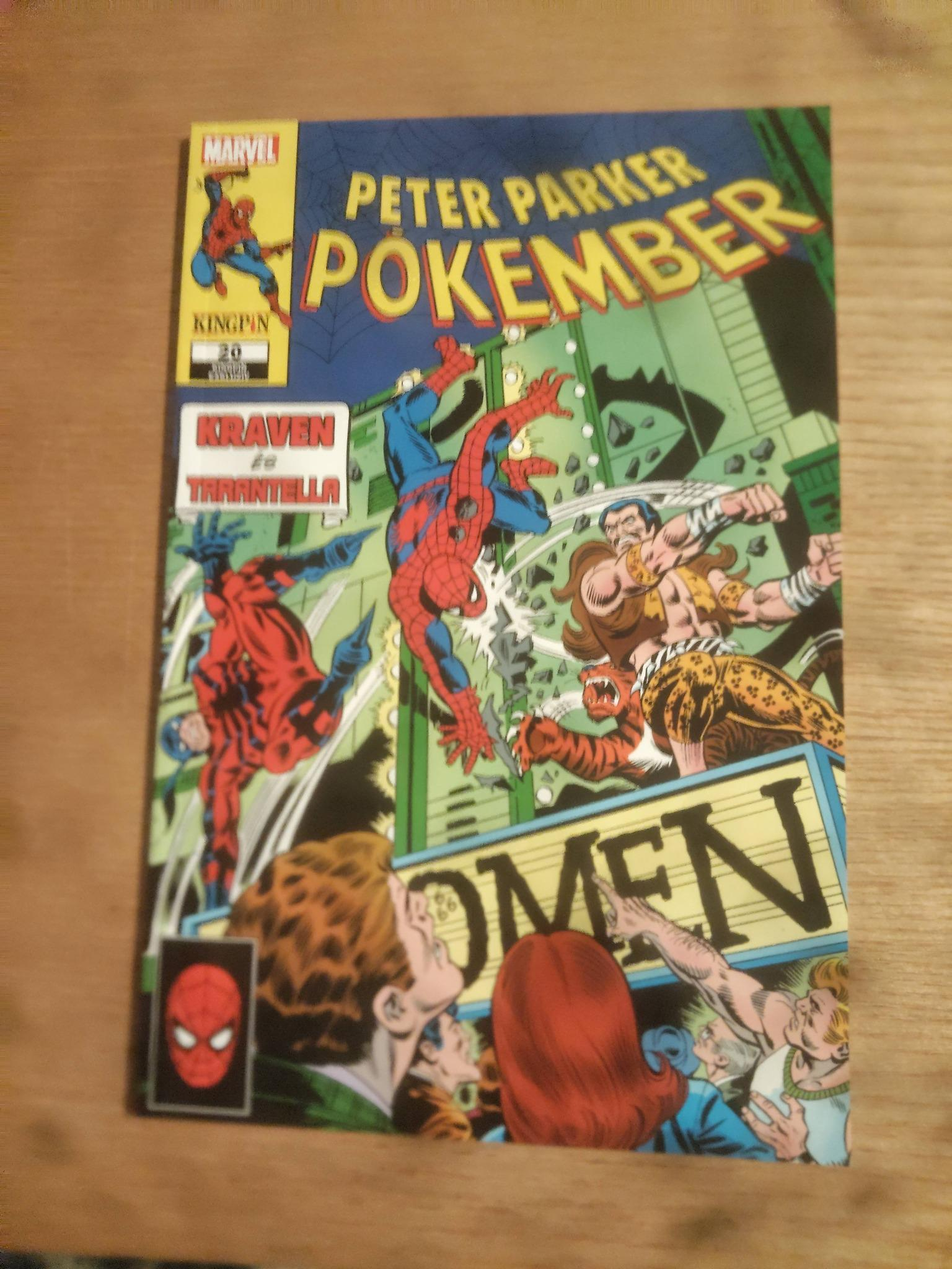comic: (135, 108, 849, 1164)
